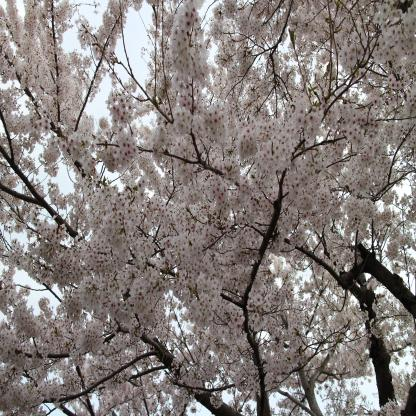Someiyoshino: (1, 2, 414, 414)
